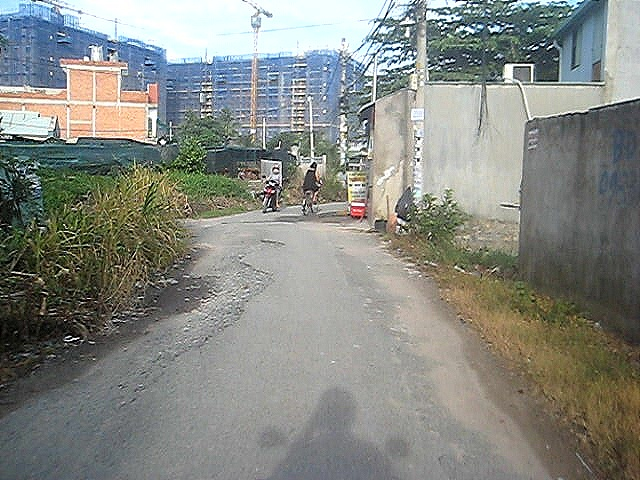hole: (179, 254, 274, 350), (192, 232, 282, 253)
